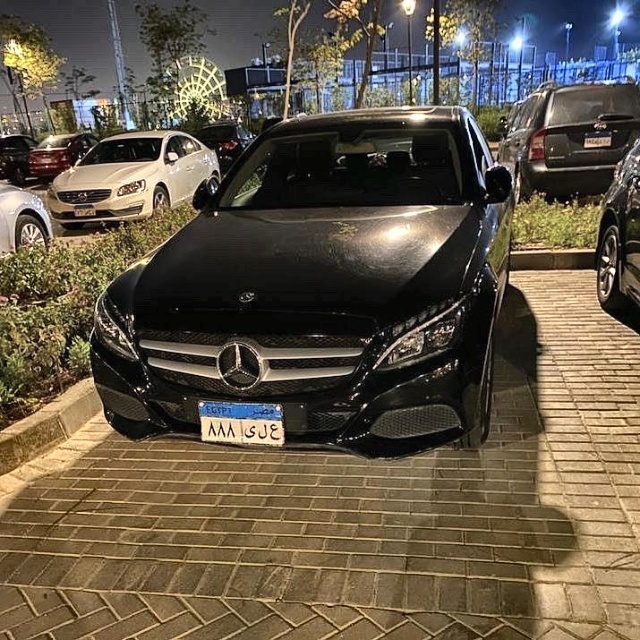License Plate: (191, 402, 289, 450)
